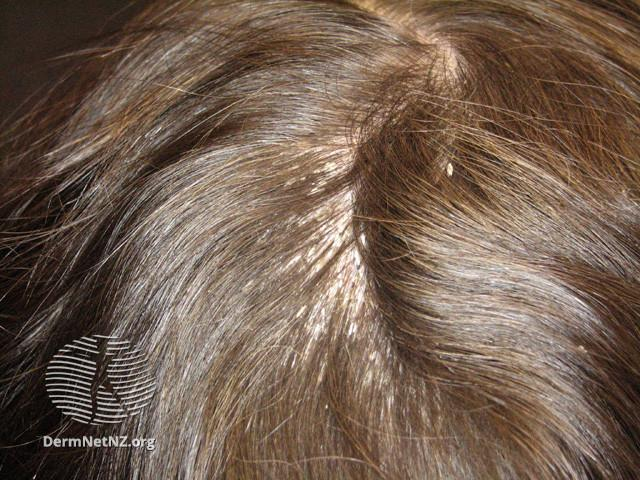Psoriasis: (295, 120, 414, 381)
